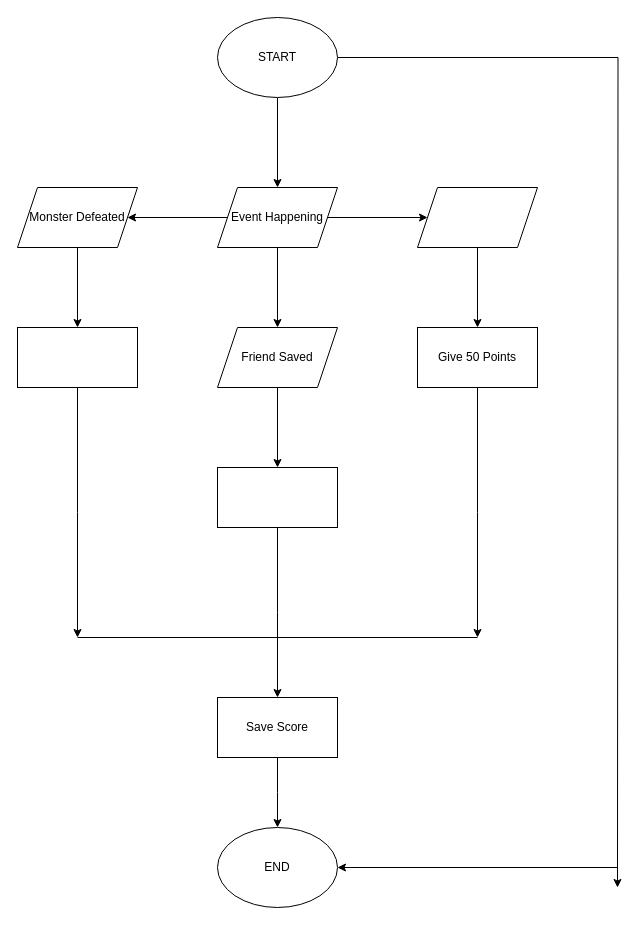
The diagram is 644 pixels wide and 925 high, and some of its shapes have lost their labels. Here are the shapes that lost their labels. From the top down, the centre of each, then its label:
pixel 477 217: Level Cleared
pixel 77 357: Give 10 Points
pixel 277 497: Give 100 Points
